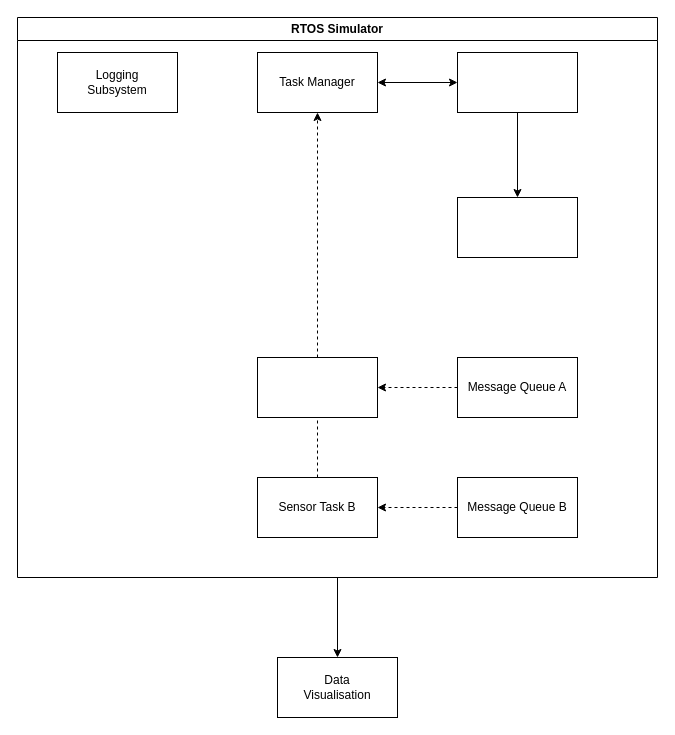
Image size: 675x735. Some labels were removed from this diagram. The shapes that lost their labels are listed below. From the top down, each one's box as (x1, y1, x2, y2) in pixels, then its label:
(456, 52, 578, 112): Scheduler
(456, 196, 578, 258): Clock / Timer
(256, 356, 378, 418): Sensor Task A
